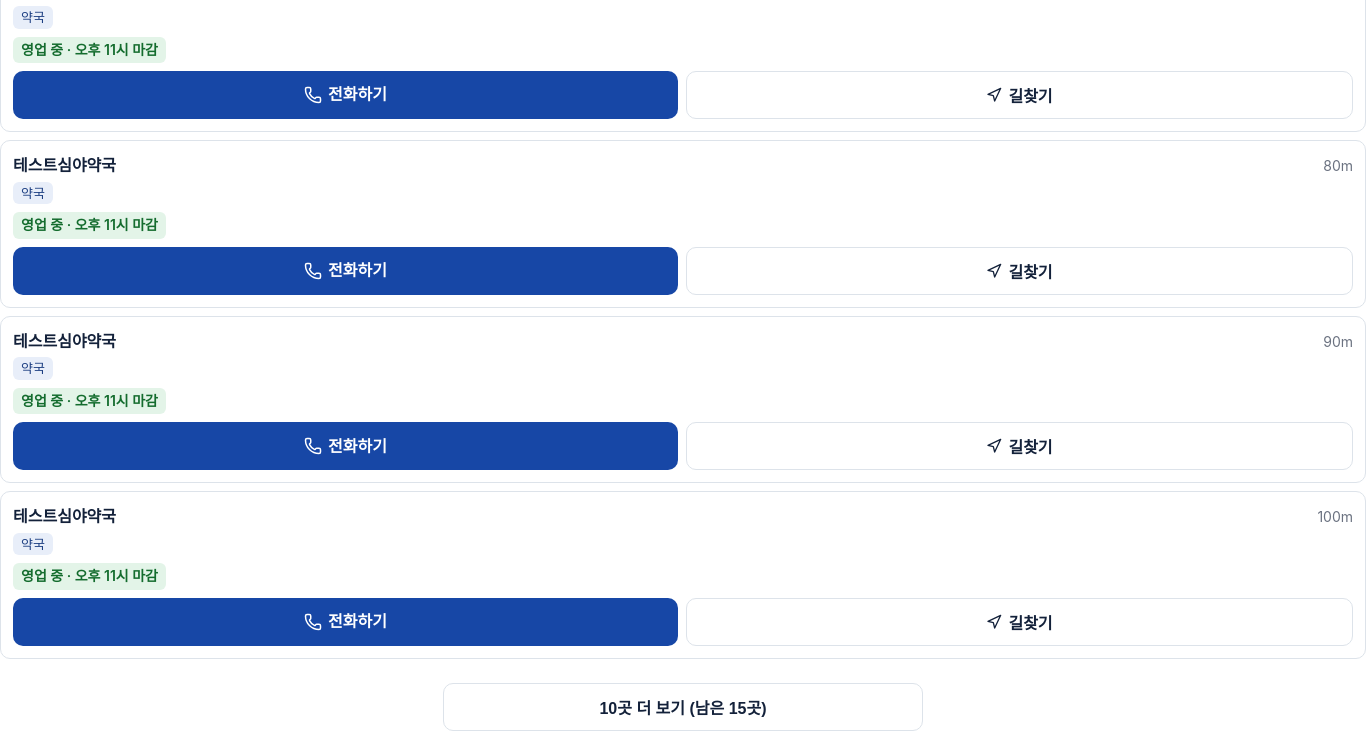
Scenario: MainList › shows 10 first; the more button adds 10 and focuses the first new card; no automatic loading (D45)
(page scrolled)
Expected: the button "전체 보기" is not shown
Step 1. Click the button "10곳 더 보기 (남은 15곳)" → (683, 707), box x1=443 y1=683 x2=923 y2=731
(page scrolled)
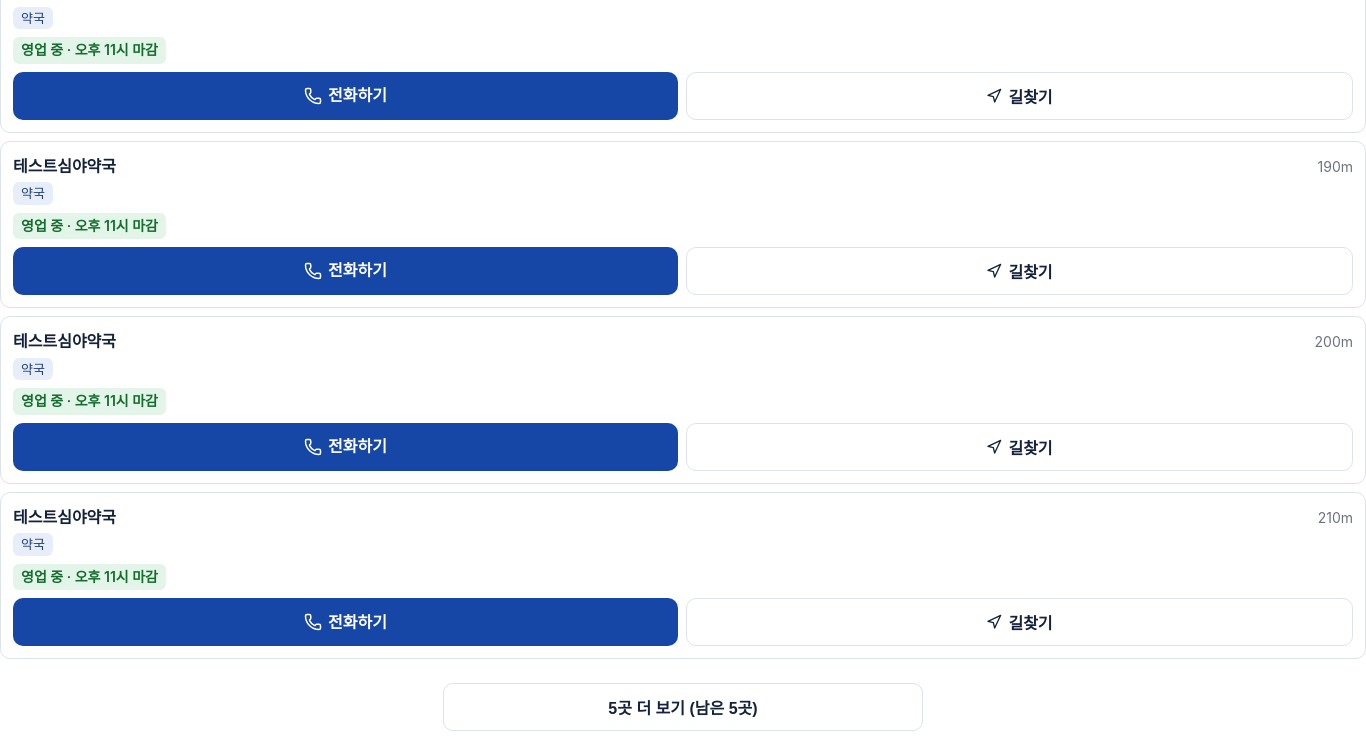
Step 2. Click the button "5곳 더 보기 (남은 5곳)" → (683, 707), box x1=443 y1=683 x2=923 y2=731
(page scrolled)
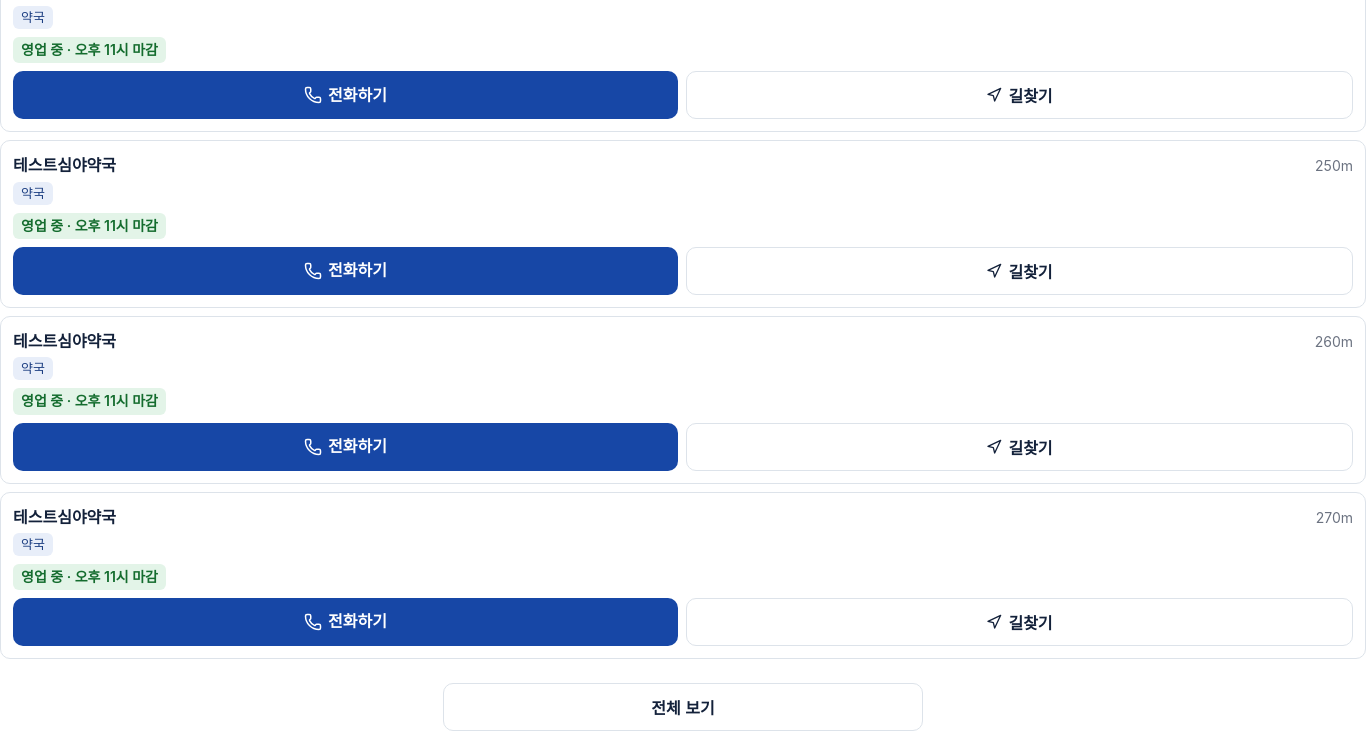
Expected: the button "더 보기" is gone
Expected: the button "전체 보기" is shown, x1=443 y1=683 x2=923 y2=731
